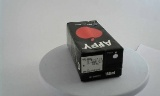appy: (61, 20, 115, 82)
